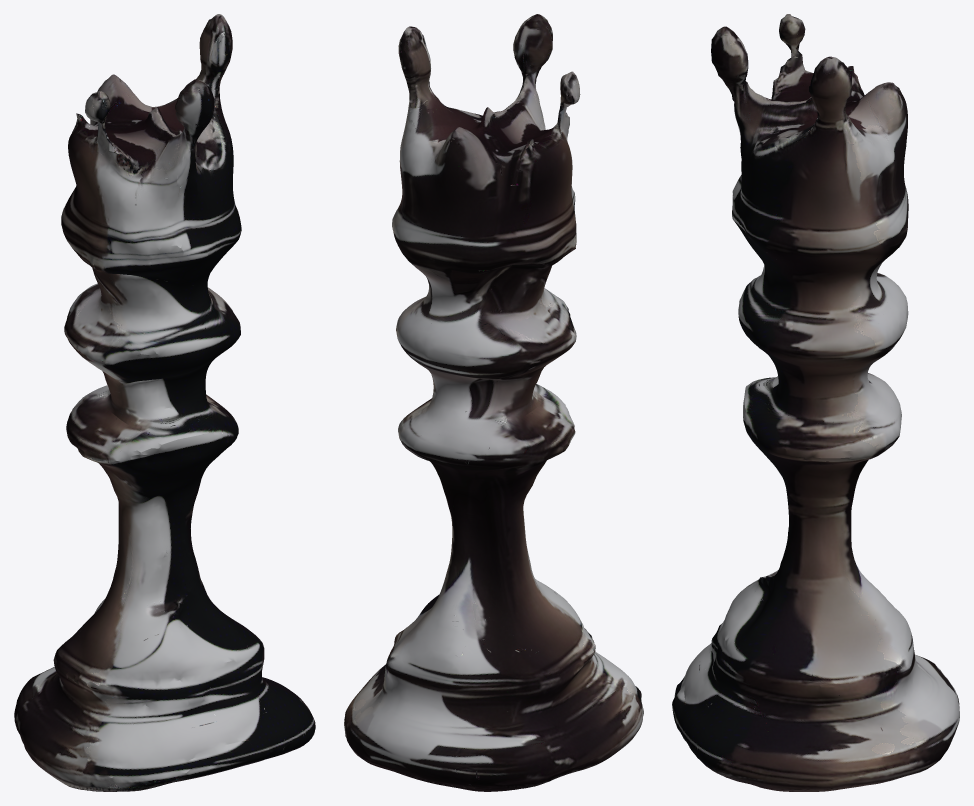
The model's file is ChaosModel2.fbx.
3 views of the same model, side by side, from view 1: azimuth 30°, elevation 25°; view 2: azimuth 150°, elevation 25°; view 3: azimuth 270°, elevation 25° (orthographic). The views are drawn at different scales.
Visible parts, largest first — view 1: Description: The obj-re_2hKcnfpgg6nJZwM3LGMQ6yPlpUd; view 2: Description: The obj-re_2hKcnfpgg6nJZwM3LGMQ6yPlpUd; view 3: Description: The obj-re_2hKcnfpgg6nJZwM3LGMQ6yPlpUd.
Boxes of the visible parts, x1,y1,x2,y2 form: Description: The obj-re_2hKcnfpgg6nJZwM3LGMQ6yPlpUd: [14, 14, 315, 791]; Description: The obj-re_2hKcnfpgg6nJZwM3LGMQ6yPlpUd: [344, 14, 643, 791]; Description: The obj-re_2hKcnfpgg6nJZwM3LGMQ6yPlpUd: [672, 14, 959, 791].
Size of the model in its own units: 47.13 by 129 by 46.74.
1 material, 1 textured.
